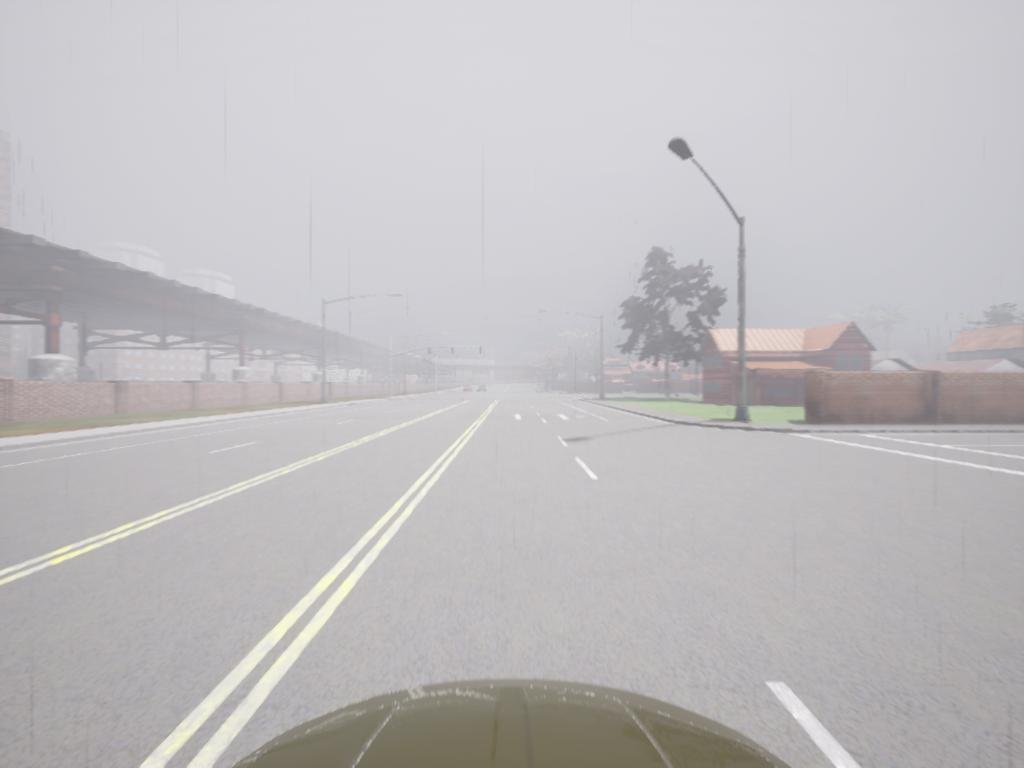traffic_light: (480, 346, 485, 358), (451, 347, 456, 359), (428, 348, 432, 357)
